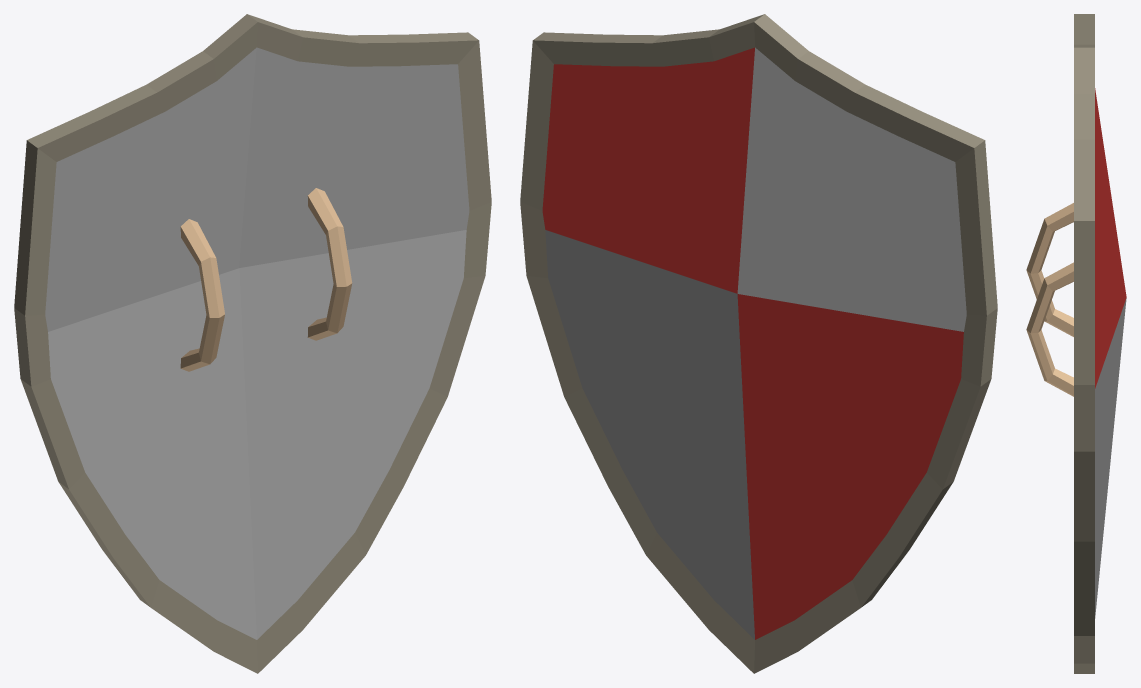
File: shield_metal.fbx
3 views of the same model, side by side, from view 1: azimuth 30°, elevation 25°; view 2: azimuth 150°, elevation 25°; view 3: azimuth 270°, elevation 25° (orthographic). The views are drawn at different scales.
Parts seen in each view (by area): view 1: Cube.001; view 2: Cube.001; view 3: Cube.001.
Boxes of the visible parts, box(x1,y1,x2,y2) form: Cube.001: box(14, 14, 491, 673); Cube.001: box(520, 14, 997, 673); Cube.001: box(1026, 14, 1126, 673).
Bounding box in the file's own units: 0.5874 × 0.7841 × 0.1138.
